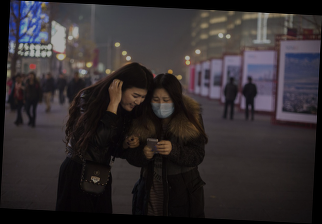with_mask: (150, 93, 176, 119)
without_mask: (120, 91, 148, 113)
